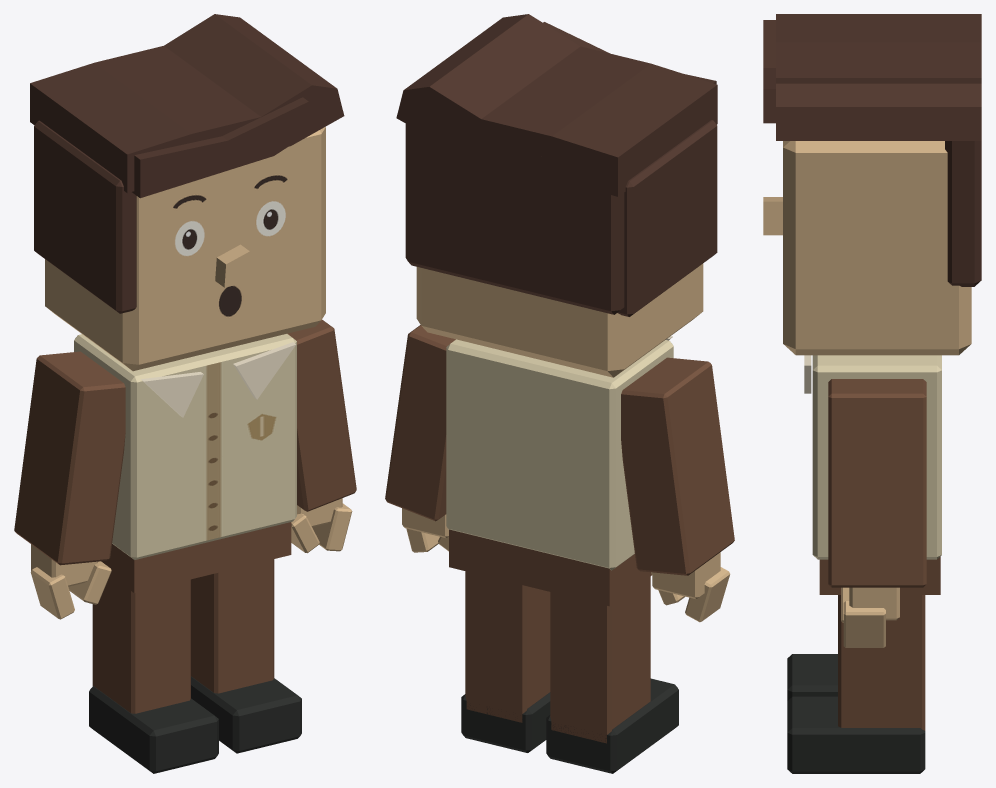
The model's file is surpreso.obj.
3 renders of one model, left to right at view 1: azimuth 30°, elevation 25°; view 2: azimuth 150°, elevation 25°; view 3: azimuth 270°, elevation 25°, orthographic. The views are drawn at different scales.
Visible parts, largest first — view 1: Explorador_HelloYotta; view 2: Explorador_HelloYotta; view 3: Explorador_HelloYotta.
Boxes of the visible parts, <box> form: Explorador_HelloYotta: <box>14,14,356,773</box>; Explorador_HelloYotta: <box>385,14,734,773</box>; Explorador_HelloYotta: <box>763,14,981,773</box>.
Bounding box in the file's own units: 1.31 × 2.72 × 0.775.
1 material, 1 textured.
